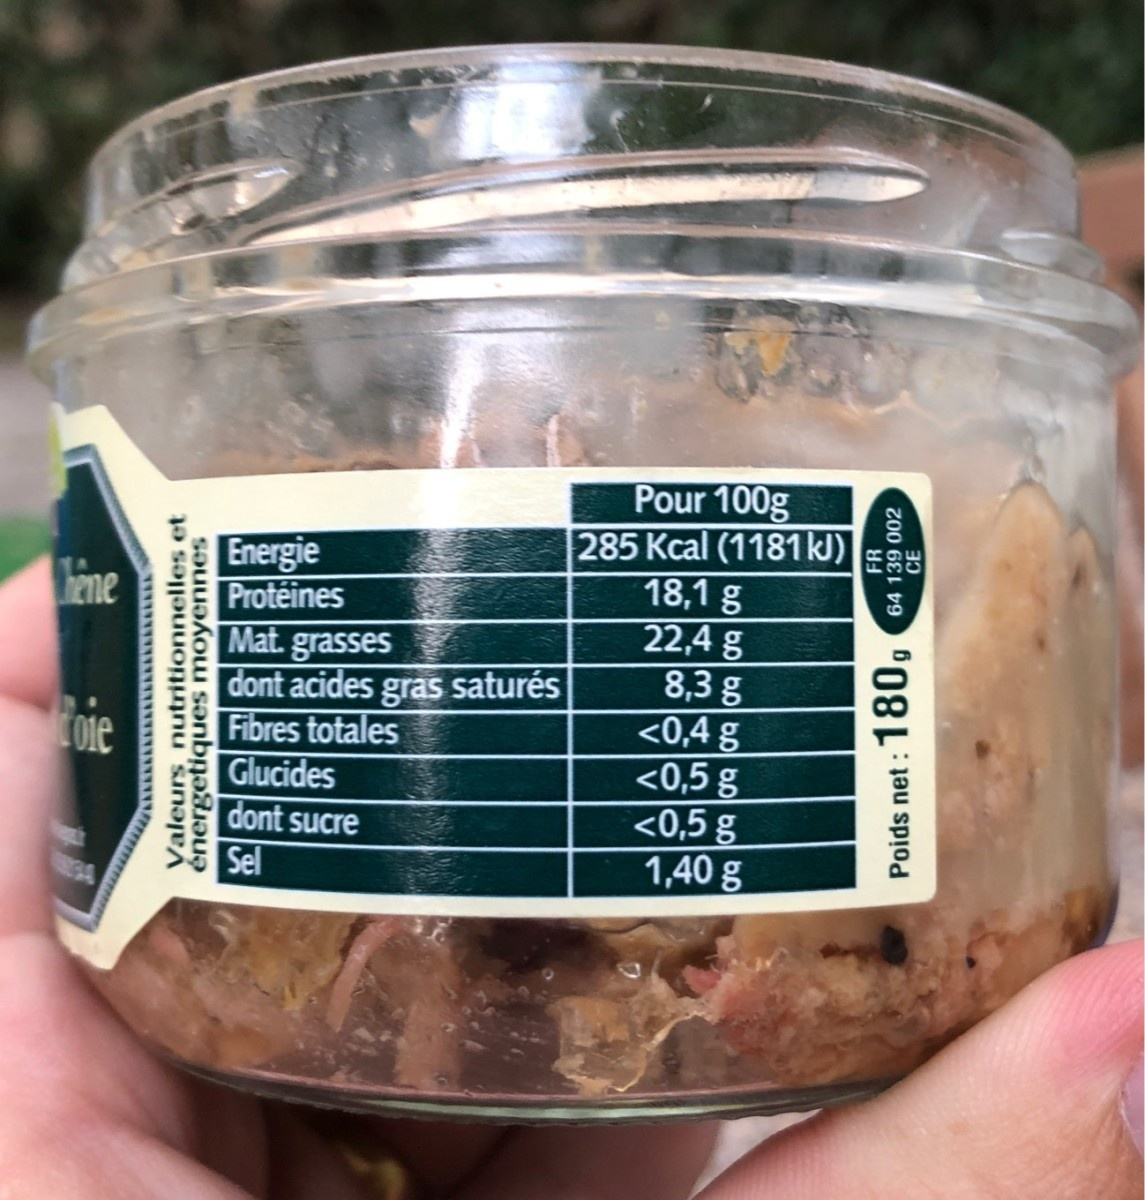column: (229, 534, 560, 877), (578, 484, 842, 888)
table: (219, 484, 860, 899)
